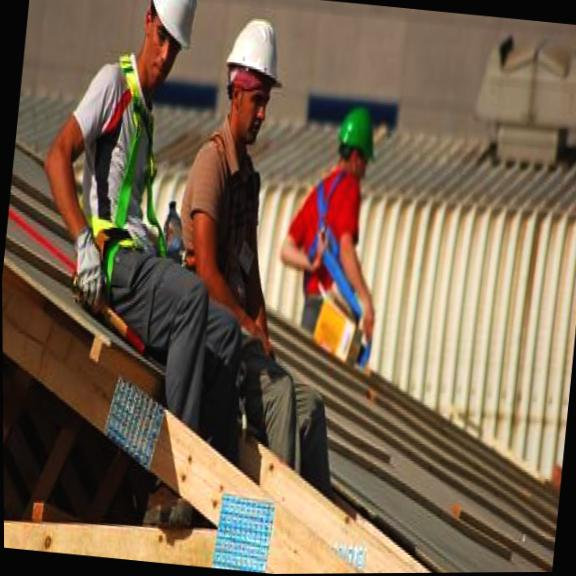safety_vest: (70, 41, 190, 304)
